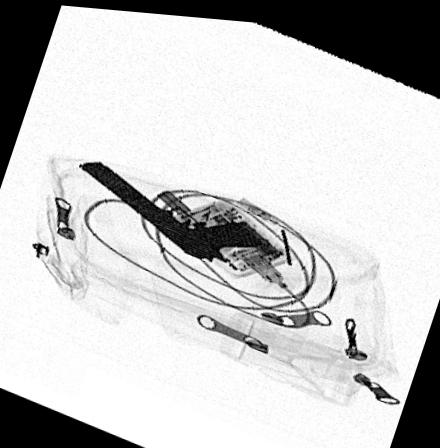Gun: (74, 160, 265, 262)
